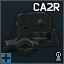AR-15 A2 rear sight: (0, 0, 64, 64)
